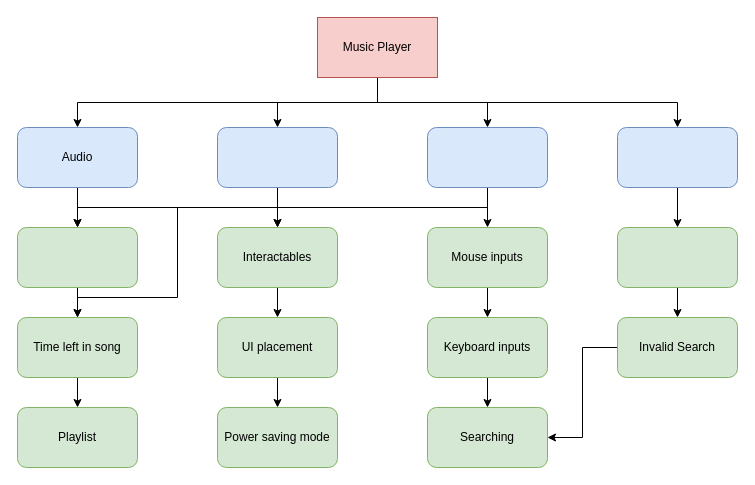
The diagram is 755 pixels wide and 485 high, and some of its shapes have lost their labels. Each missing label, with the centre of its shape:
Audio State (Pause/play): (x=77, y=257)
Not audio files: (x=677, y=257)
Rules: (x=677, y=157)
User inputs: (x=487, y=157)
Visuals: (x=277, y=157)
